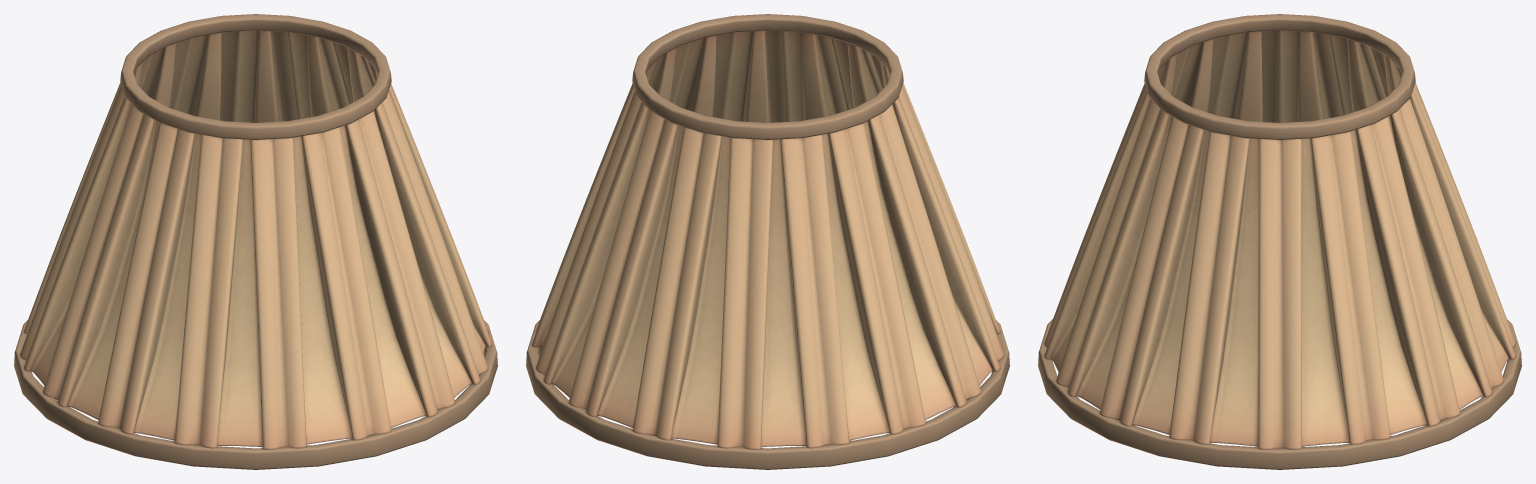
Rendered from Lampshade01.obj.
The picture shows the model from 3 angles, left to right: view 1: azimuth 30°, elevation 25°; view 2: azimuth 150°, elevation 25°; view 3: azimuth 270°, elevation 25°; orthographic projection.
Visible parts, largest first — view 1: Lampshade01; view 2: Lampshade01; view 3: Lampshade01.
Boxes of the visible parts, bbox=[...] form: Lampshade01: bbox=[14, 14, 497, 469]; Lampshade01: bbox=[526, 14, 1009, 469]; Lampshade01: bbox=[1038, 14, 1521, 469].
Size of the model in its own units: 0.5498 by 0.3743 by 0.5498.
